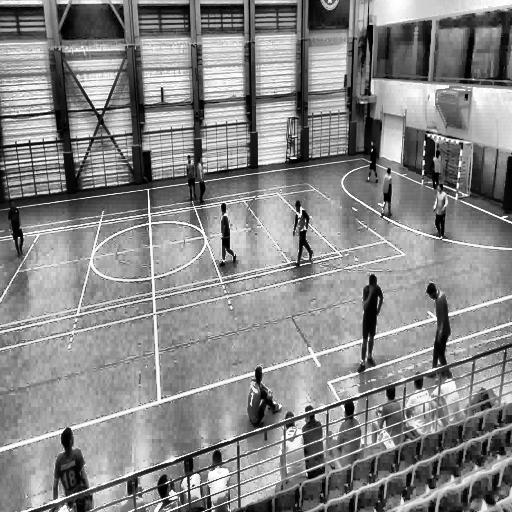player: (358, 272, 382, 368), (427, 281, 451, 368), (292, 200, 314, 266), (218, 202, 236, 267), (8, 200, 26, 258), (432, 182, 447, 236), (184, 152, 199, 204), (380, 167, 392, 218), (428, 147, 441, 192), (195, 155, 206, 204), (366, 142, 378, 183)
